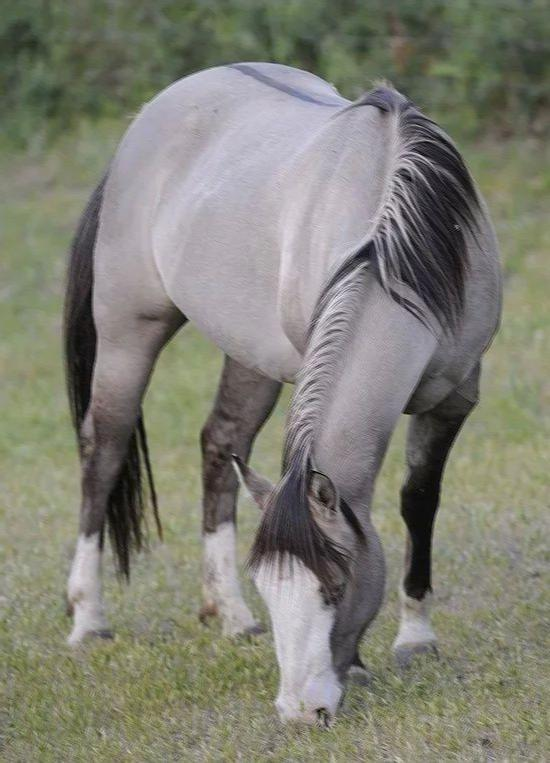horse: (60, 59, 504, 730)
